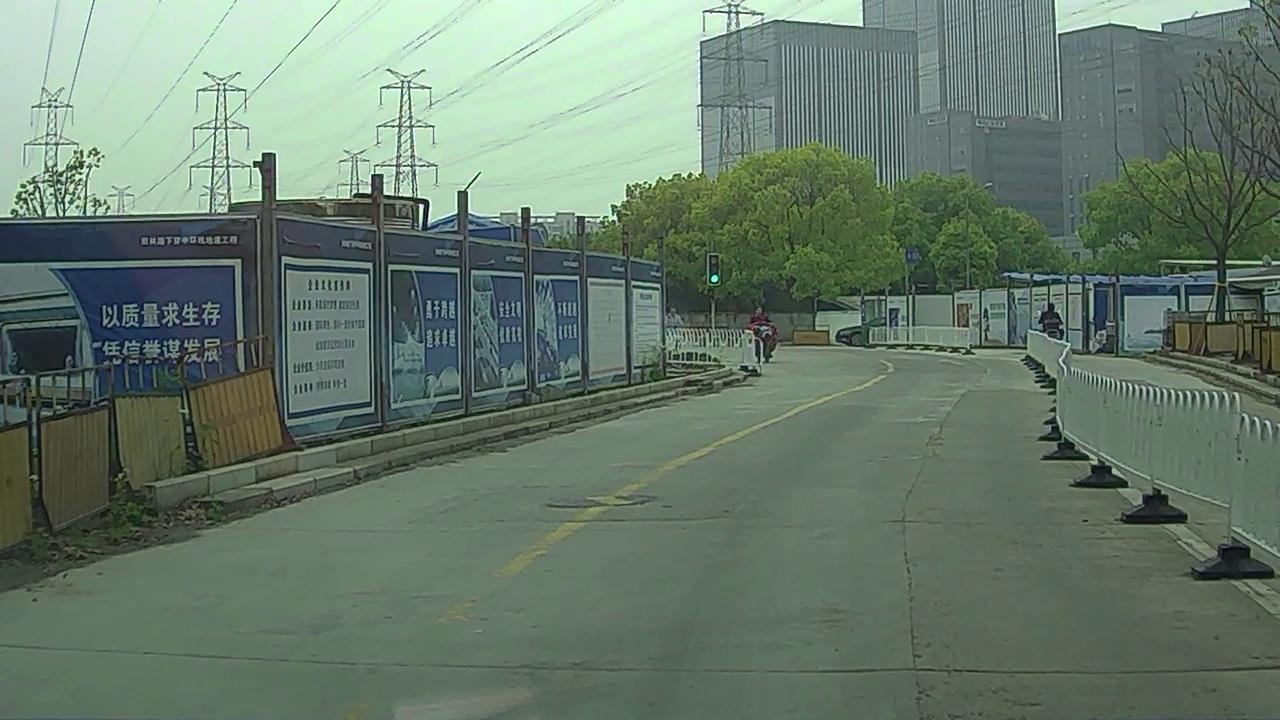traffic_light: (709, 255, 720, 285)
